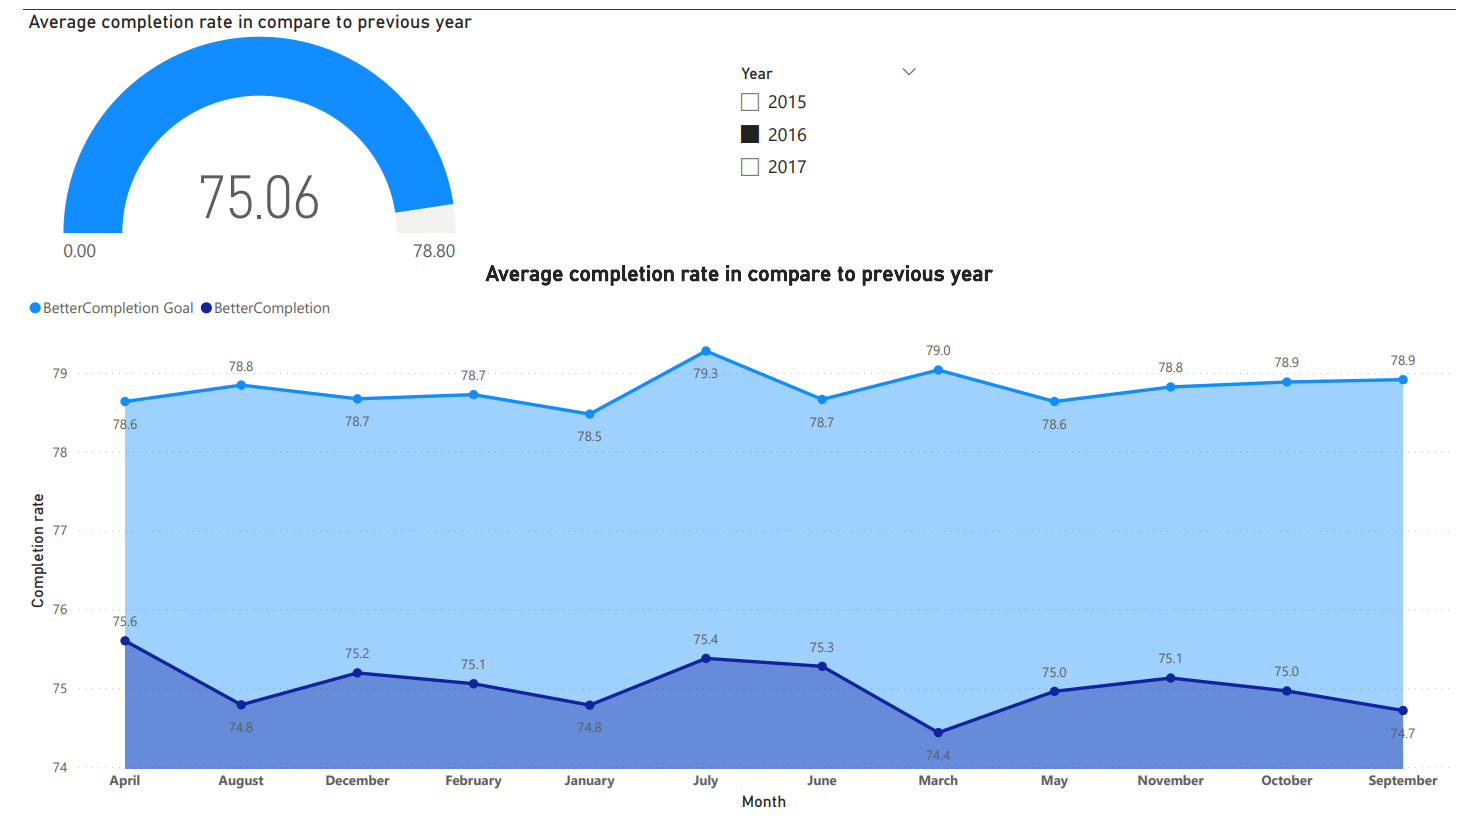

The dashboard page shown, as its layout file describes it:
{"tool":"powerbi","page":{"name":"BetterCompletion","canvas":[1280,720],"ordinal":0},"visuals":[{"type":"gauge","fields":{"Y":["Fact Enrollment.BetterCompletion Value"],"MaxValue":["Fact Enrollment.BetterCompletion Goal"]},"box":[0,0,327.1,235.7],"z":0},{"type":"areaChart","fields":{"Category":["ID Start Date.Month"],"Y":["Fact Enrollment.BetterCompletion Goal","Fact Enrollment.BetterCompletion Value"]},"box":[0,224.3,1280,495.7],"z":1000},{"type":"slicer","fields":{"Values":["ID Start Date.Year"]},"box":[628.6,44.3,182.9,142.9],"z":2000}]}

Visuals, with their boxes in screenshot pixels (x1, y1, x2, y2), scaled from the page's 1280x720 canvas onto the 1479x835 screenshot:
gauge - Fact Enrollment.BetterCompletion Value x Fact Enrollment.BetterCompletion Goal: (left=0, top=0, right=378, bottom=273)
areaChart - ID Start Date.Month x Fact Enrollment.BetterCompletion Goal: (left=0, top=260, right=1478, bottom=834)
slicer - ID Start Date.Year: (left=726, top=51, right=938, bottom=217)
